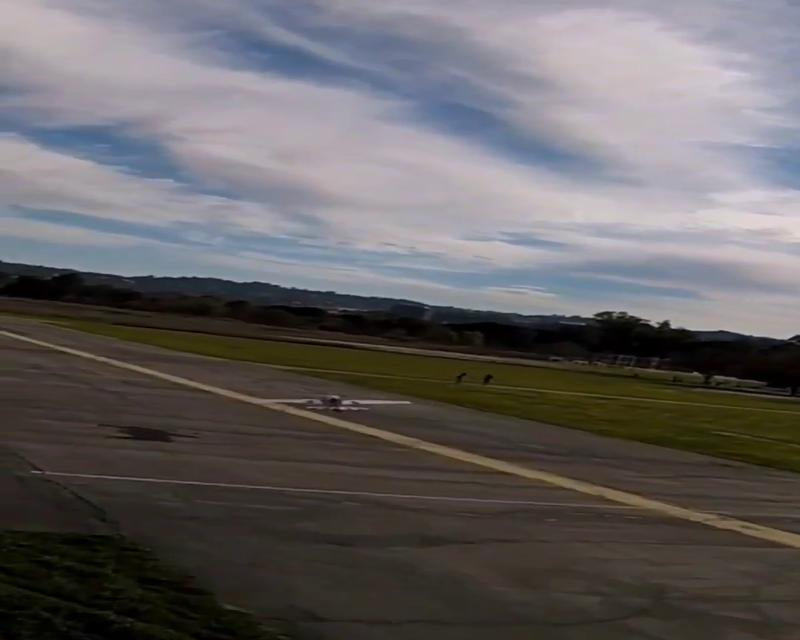UAV: (263, 394, 412, 412)
